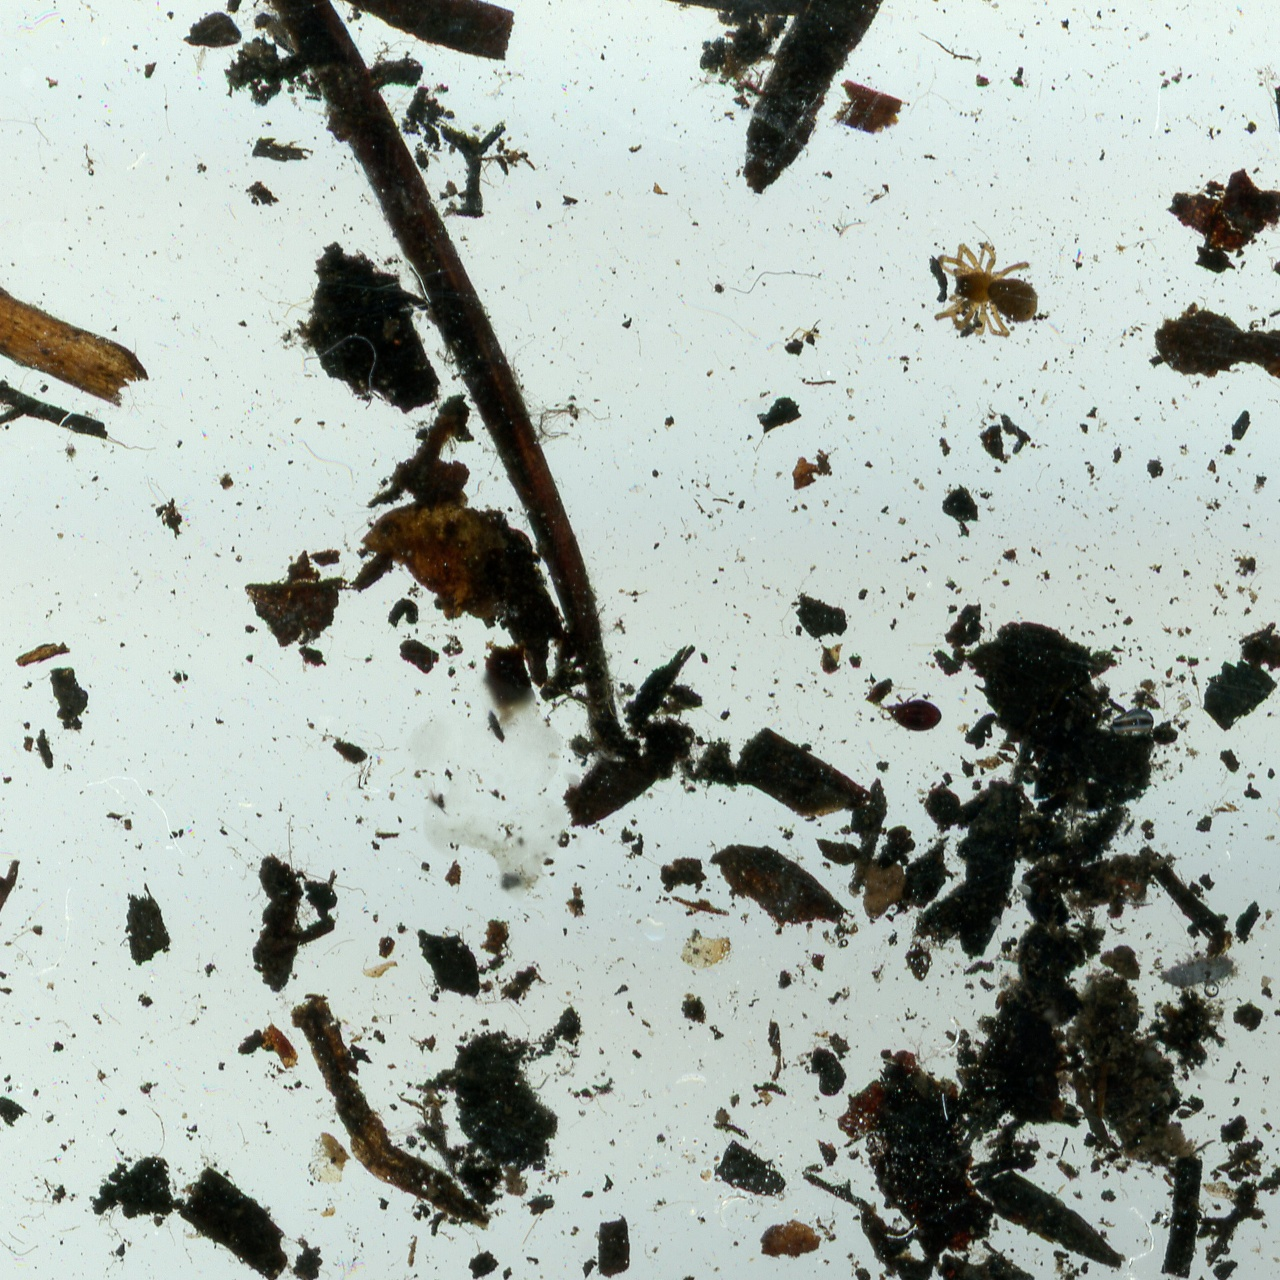arthropod: (933, 242, 1039, 338), (1155, 948, 1240, 996), (877, 690, 944, 735)
